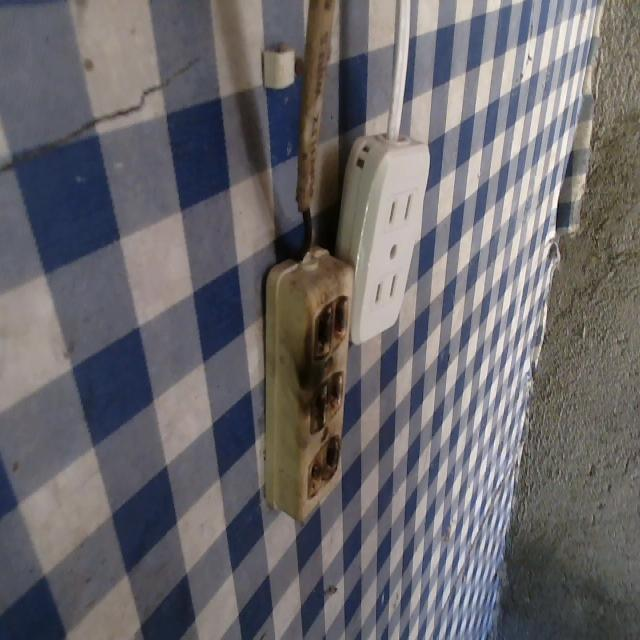-: (309, 284, 355, 355), (299, 432, 345, 500), (305, 366, 346, 426)
